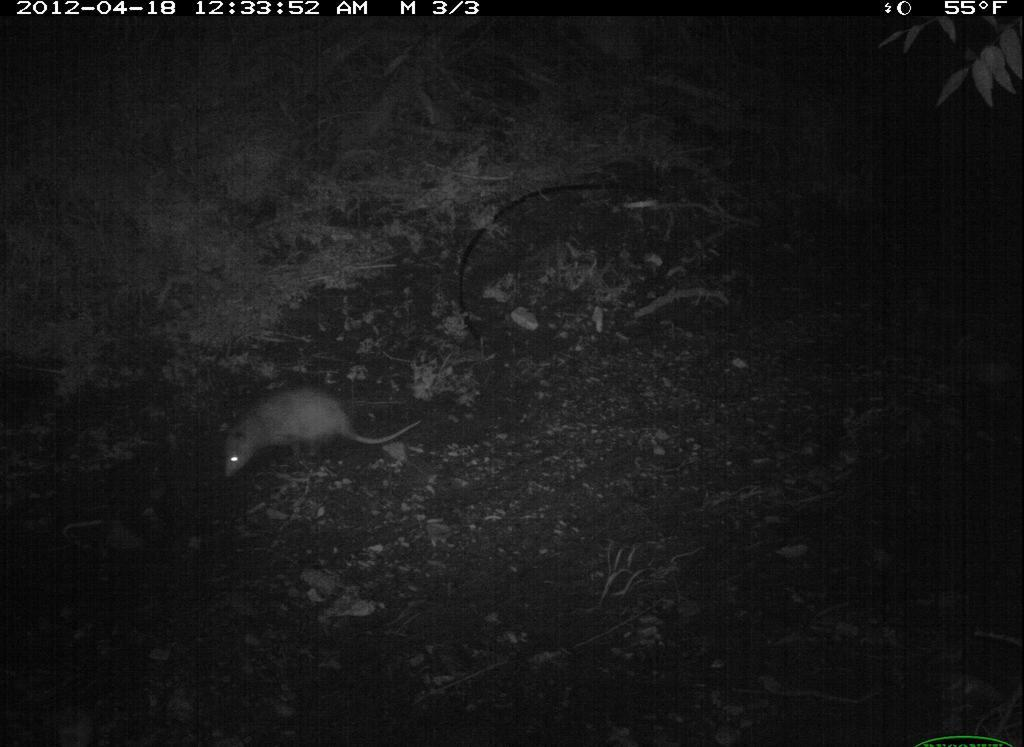opossum: (212, 379, 429, 483)
